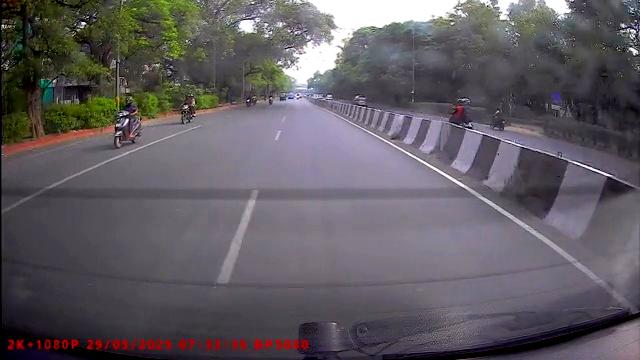motorcycle_with_helmet: (110, 95, 143, 151), (180, 91, 197, 126)
